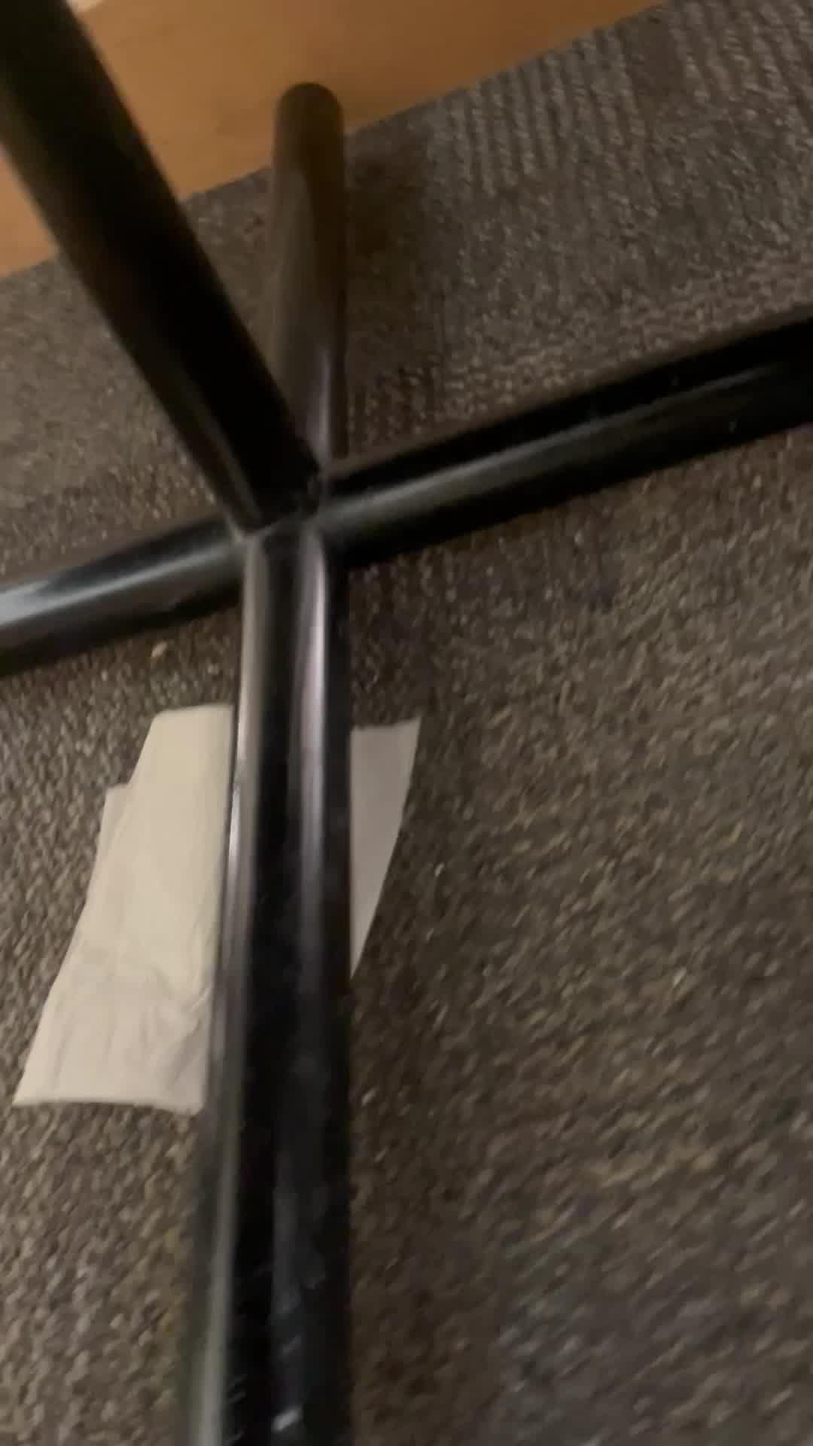napkin: (0, 663, 448, 1184)
